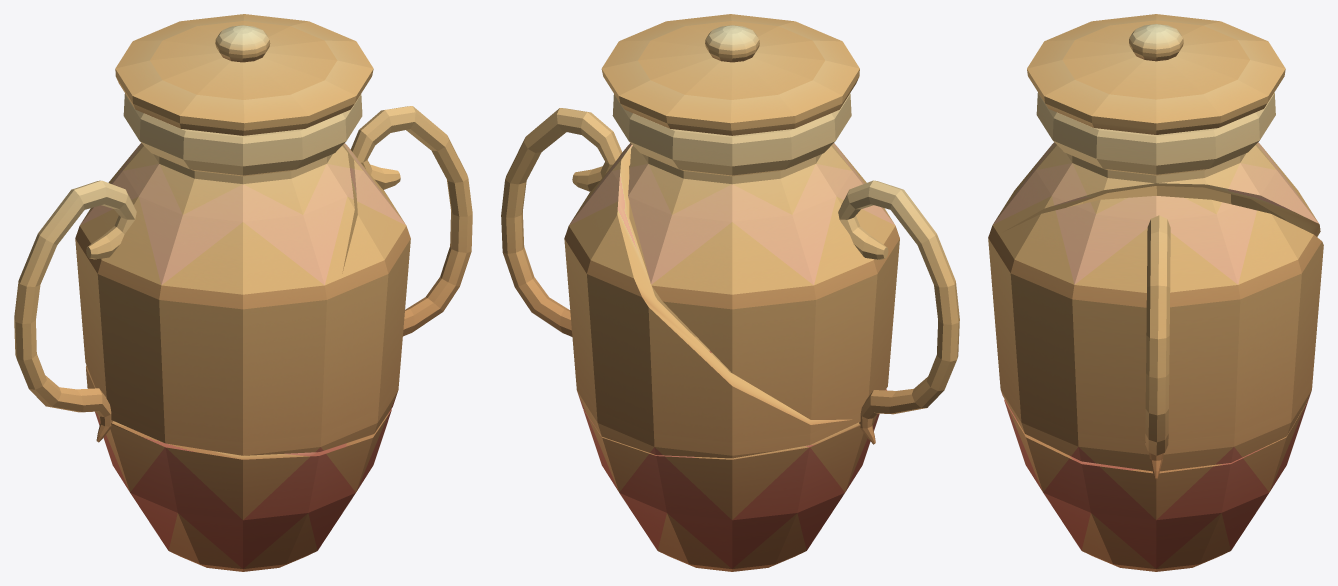
Rendered from Jarroquebrado.fbx.
3 views of the same model, side by side, from view 1: azimuth 30°, elevation 25°; view 2: azimuth 150°, elevation 25°; view 3: azimuth 270°, elevation 25° (orthographic).
Parts seen in each view (by area): view 1: JarroParte1, JarroParte2, JarroParte3, Tampa, AlçaEsquerda, AlçãDireita.001; view 2: JarroParte1, JarroParte2, JarroParte3, Tampa, AlçaEsquerda, AlçãDireita.001; view 3: JarroParte2, Tampa, JarroParte3, JarroParte1, AlçãDireita.001.
Part boxes in pixels (x1,y1,x2,y2): JarroParte1: (75,93,362,430); JarroParte2: (86,143,410,455); JarroParte3: (95,409,391,571); Tampa: (115,14,373,135); AlçaEsquerda: (14,180,136,442); AlçãDireita.001: (350,106,472,336); JarroParte1: (612,93,899,419); JarroParte2: (564,143,888,458); JarroParte3: (583,351,886,571); Tampa: (601,14,859,135); AlçaEsquerda: (838,180,959,444); AlçãDireita.001: (501,108,622,336); JarroParte2: (989,196,1323,471); Tampa: (1027,14,1285,134); JarroParte3: (1004,399,1308,571); JarroParte1: (988,92,1320,246); AlçãDireita.001: (1145,215,1170,479).
Size of the model in its own units: 314 by 337 by 200.
